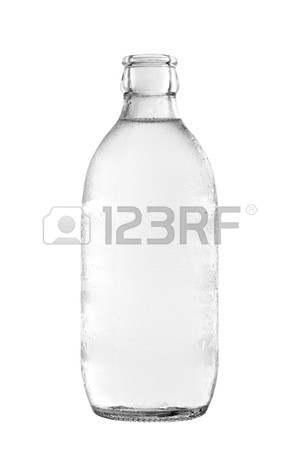glass of water: (81, 145, 218, 421)
